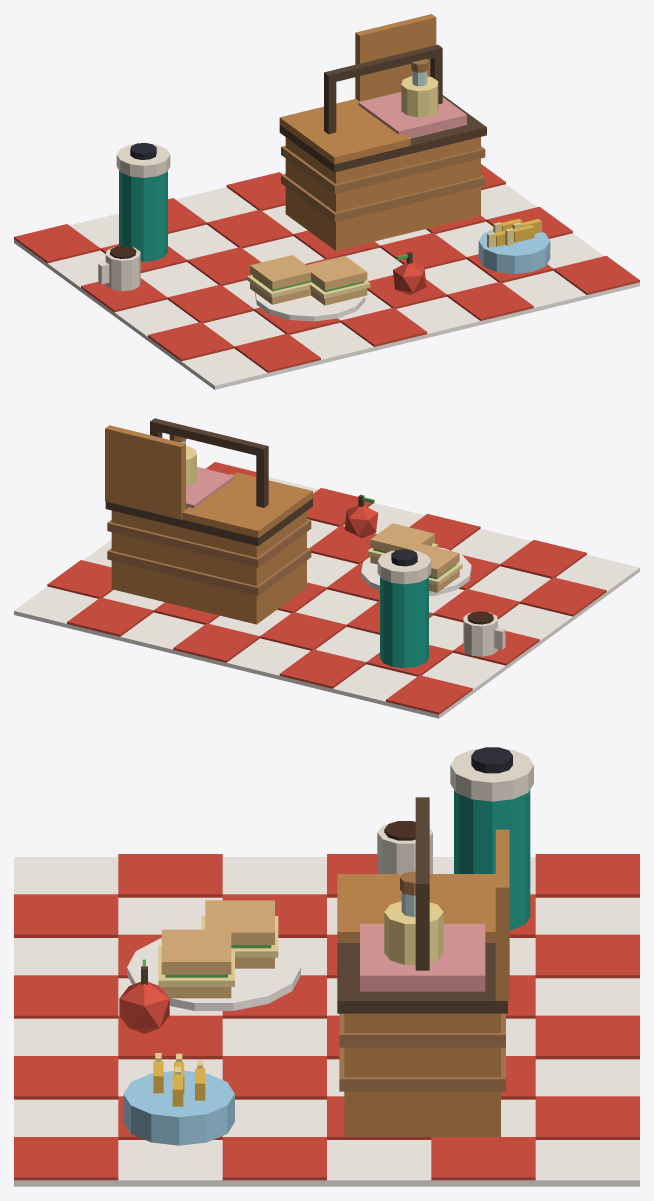
The model's file is CatCafe_Camp_Park_PicnicBasket.glb.
The picture shows the model from 3 angles, top to bottom: view 1: azimuth 30°, elevation 25°; view 2: azimuth 150°, elevation 25°; view 3: azimuth 270°, elevation 25°; orthographic projection. The views are drawn at different scales.
Parts seen in each view (by area): view 1: CatCafe_Camp_Park_PicnicBasket; view 2: CatCafe_Camp_Park_PicnicBasket; view 3: CatCafe_Camp_Park_PicnicBasket.
Part boxes in pixels (x1,y1,x2,y2): CatCafe_Camp_Park_PicnicBasket: (14,14,639,389); CatCafe_Camp_Park_PicnicBasket: (14,418,639,718); CatCafe_Camp_Park_PicnicBasket: (14,747,639,1186).
Bounding box in the file's own units: 4.4 × 1.66 × 3.6.
1 material, 1 textured.
